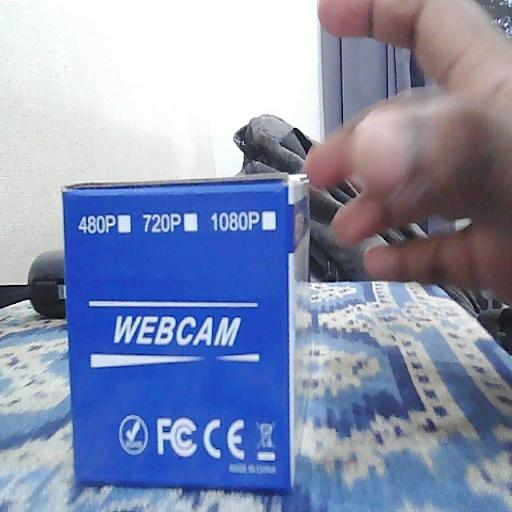webcam_box: (62, 172, 312, 492)
